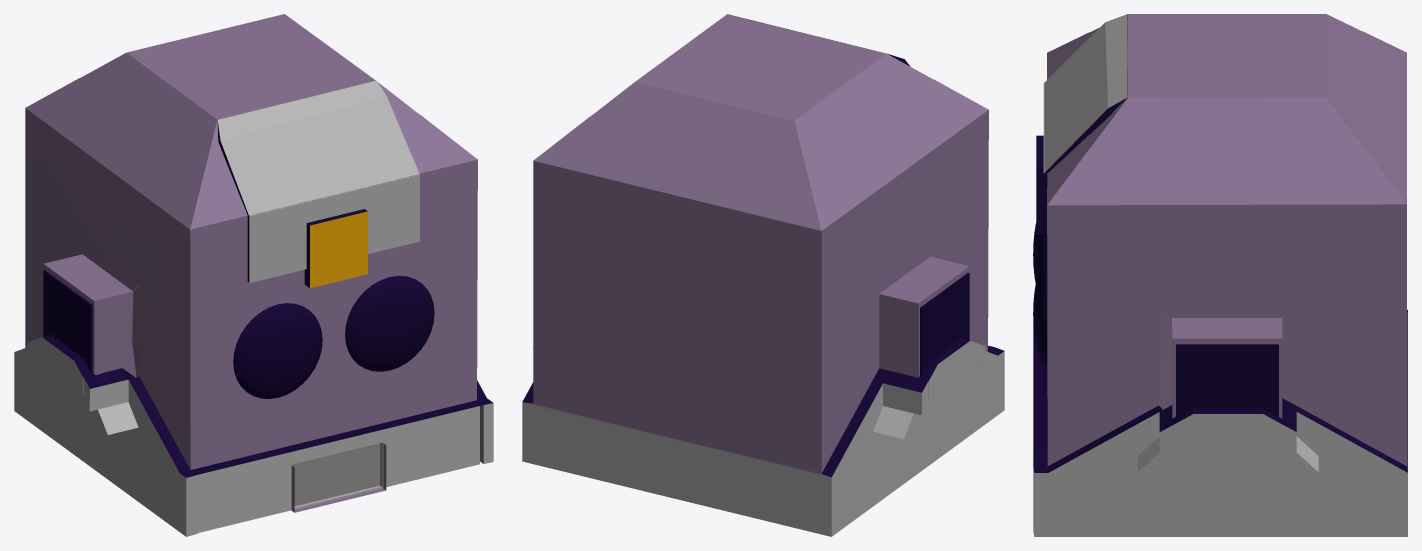
File: cano.gltf
The picture shows the model from 3 angles, left to right: view 1: azimuth 30°, elevation 25°; view 2: azimuth 150°, elevation 25°; view 3: azimuth 270°, elevation 25°; orthographic projection. The views are drawn at different scales.
Visible parts, largest first — view 1: Cube, Cube004, Cube005, Sphere001, Cube003, Cube002, Cube001; view 2: Cube, Cube001; view 3: Cube, Cube004, Cube001, Sphere001, Cube002, Cube003.
Boxes of the visible parts, bbox=[...] form: Cube: bbox=[14, 14, 493, 536]; Cube004: bbox=[217, 80, 419, 215]; Cube005: bbox=[197, 406, 479, 533]; Sphere001: bbox=[233, 275, 434, 398]; Cube003: bbox=[247, 174, 419, 282]; Cube002: bbox=[304, 209, 367, 288]; Cube001: bbox=[43, 270, 92, 371]; Cube: bbox=[522, 14, 1004, 536]; Cube001: bbox=[920, 273, 969, 375]; Cube: bbox=[1033, 14, 1407, 536]; Cube004: bbox=[1044, 14, 1127, 173]; Cube001: bbox=[1176, 344, 1278, 417]; Sphere001: bbox=[1033, 222, 1047, 369]; Cube002: bbox=[1036, 135, 1043, 234]; Cube003: bbox=[1043, 83, 1047, 245].
Size of the model in its own units: 4.2 by 3.85 by 3.26.
